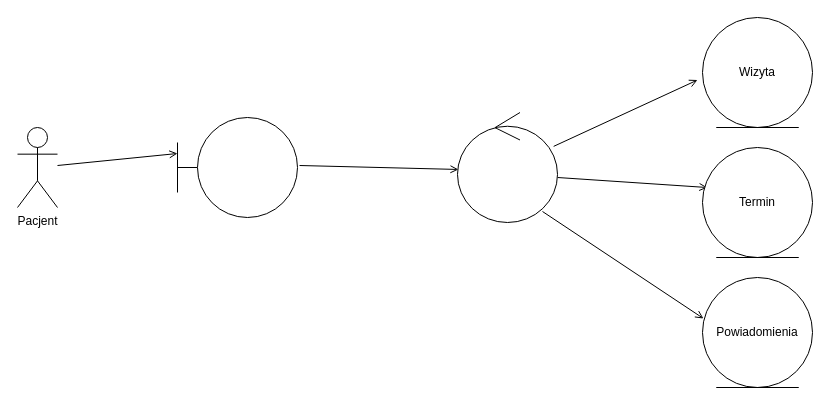
This 830x405 diagram has some shape labels left out. Here are the shapes that lost their labels. From the top down, the centre of each, then its label:
(237,167): Okno "Moje Wizyty"
(507,167): Odwołanie Wizyty
